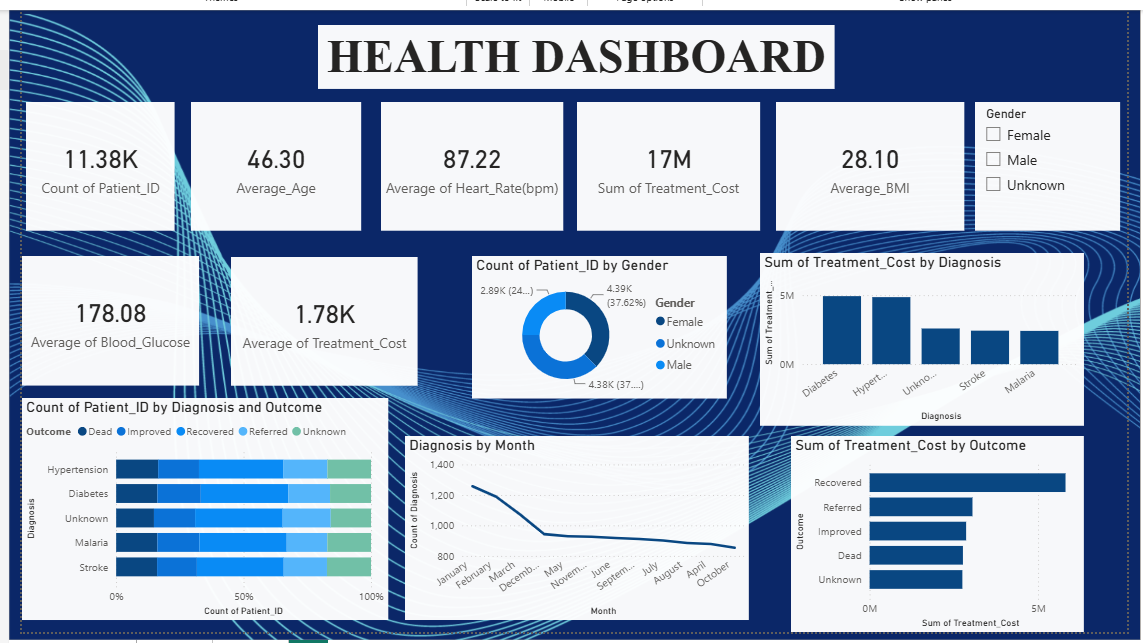

What the dashboard file says about the page in this screenshot:
{"tool":"powerbi","page":{"name":"Page 1","canvas":[1280,720],"ordinal":0},"visuals":[{"type":"card","fields":{"Values":["Count(Cleaned Data.Patient_ID)"]},"box":[4.6,106.5,172.5,149.3],"z":0},{"type":"card","fields":{"Values":["Sum(Cleaned Data.Treatment_Cost)"]},"box":[642.4,106.5,211.8,149.3],"z":1000},{"type":"card","fields":{"Values":["Cleaned Data.Average_Age"]},"box":[195.6,106.5,196.8,149.3],"z":2000},{"type":"card","fields":{"Values":["Avg(Cleaned Data.Blood_Glucose)"]},"box":[0,284.4,204.7,150.2],"z":3000},{"type":"card","fields":{"Values":["Avg(Cleaned Data.Heart_Rate(bpm))"]},"box":[415.6,106.5,210.7,149.3],"z":4000},{"type":"card","fields":{"Values":["Avg(Cleaned Data.Treatment_Cost)"]},"box":[241.9,285.9,216.5,149.3],"z":5000},{"type":"card","fields":{"Values":["Cleaned Data.Average_BMI"]},"box":[872.8,106.5,217.6,149.3],"z":6001},{"type":"textbox","box":[342.6,17.4,598.5,74.1],"z":6003},{"type":"donutChart","fields":{"Category":["Cleaned Data.Gender"],"Y":["CountNonNull(Cleaned Data.Patient_ID)"]},"box":[521,284.4,295.1,164.8],"z":6004},{"type":"hundredPercentStackedBarChart","fields":{"Series":["Cleaned Data.Outcome"],"Category":["Cleaned Data.Diagnosis"],"Y":["CountNonNull(Cleaned Data.Patient_ID)"]},"box":[0,449.3,424,256.5],"z":6006},{"type":"lineChart","title":"Diagnosis by Month","fields":{"Category":["Cleaned Data.Month"],"Y":["CountNonNull(Cleaned Data.Diagnosis)"]},"box":[443.6,492.7,397.7,212.8],"z":6007},{"type":"clusteredColumnChart","fields":{"Category":["Cleaned Data.Diagnosis"],"Y":["Sum(Cleaned Data.Treatment_Cost)"]},"box":[854.4,281.5,374.8,199.7],"z":6008},{"type":"barChart","fields":{"Category":["Cleaned Data.Outcome"],"Y":["Sum(Cleaned Data.Treatment_Cost)"]},"box":[890.2,493.1,339.2,226.9],"z":6009},{"type":"slicer","fields":{"Values":["Cleaned Data.Gender"]},"box":[1103.2,106.5,167.8,149.3],"z":6010}]}

Visuals, with their boxes in screenshot pixels (x1, y1, x2, y2):
card - Count(Cleaned Data.Patient_ID): <region>10, 97, 162, 228</region>
card - Sum(Cleaned Data.Treatment_Cost): <region>572, 97, 758, 228</region>
card - Cleaned Data.Average_Age: <region>178, 97, 352, 228</region>
card - Avg(Cleaned Data.Blood_Glucose): <region>6, 253, 186, 386</region>
card - Avg(Cleaned Data.Heart_Rate(bpm)): <region>372, 97, 557, 228</region>
card - Avg(Cleaned Data.Treatment_Cost): <region>219, 255, 410, 386</region>
card - Cleaned Data.Average_BMI: <region>775, 97, 966, 228</region>
textbox: <region>308, 18, 835, 84</region>
donutChart - Cleaned Data.Gender x CountNonNull(Cleaned Data.Patient_ID): <region>465, 253, 725, 399</region>
hundredPercentStackedBarChart - Cleaned Data.Outcome x Cleaned Data.Diagnosis: <region>6, 399, 379, 625</region>
"Diagnosis by Month" lineChart: <region>397, 437, 747, 624</region>
clusteredColumnChart - Cleaned Data.Diagnosis x Sum(Cleaned Data.Treatment_Cost): <region>758, 251, 1088, 427</region>
barChart - Cleaned Data.Outcome x Sum(Cleaned Data.Treatment_Cost): <region>790, 437, 1089, 637</region>
slicer - Cleaned Data.Gender: <region>977, 97, 1125, 228</region>
